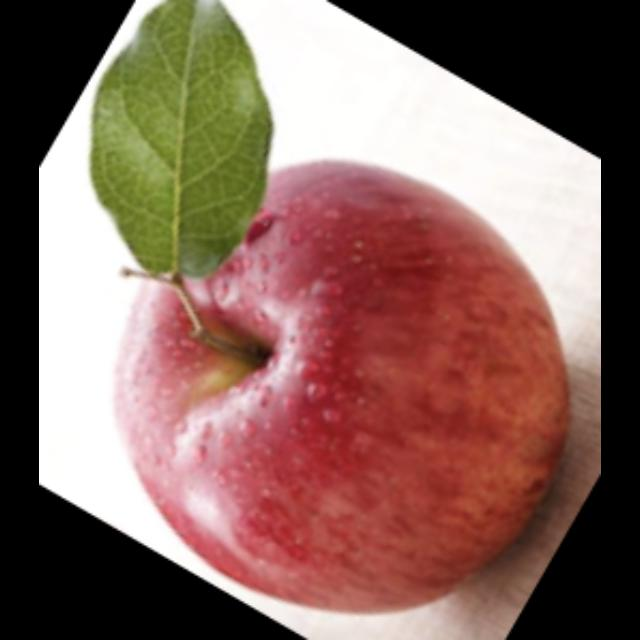Apel Segar: (110, 159, 572, 616)
